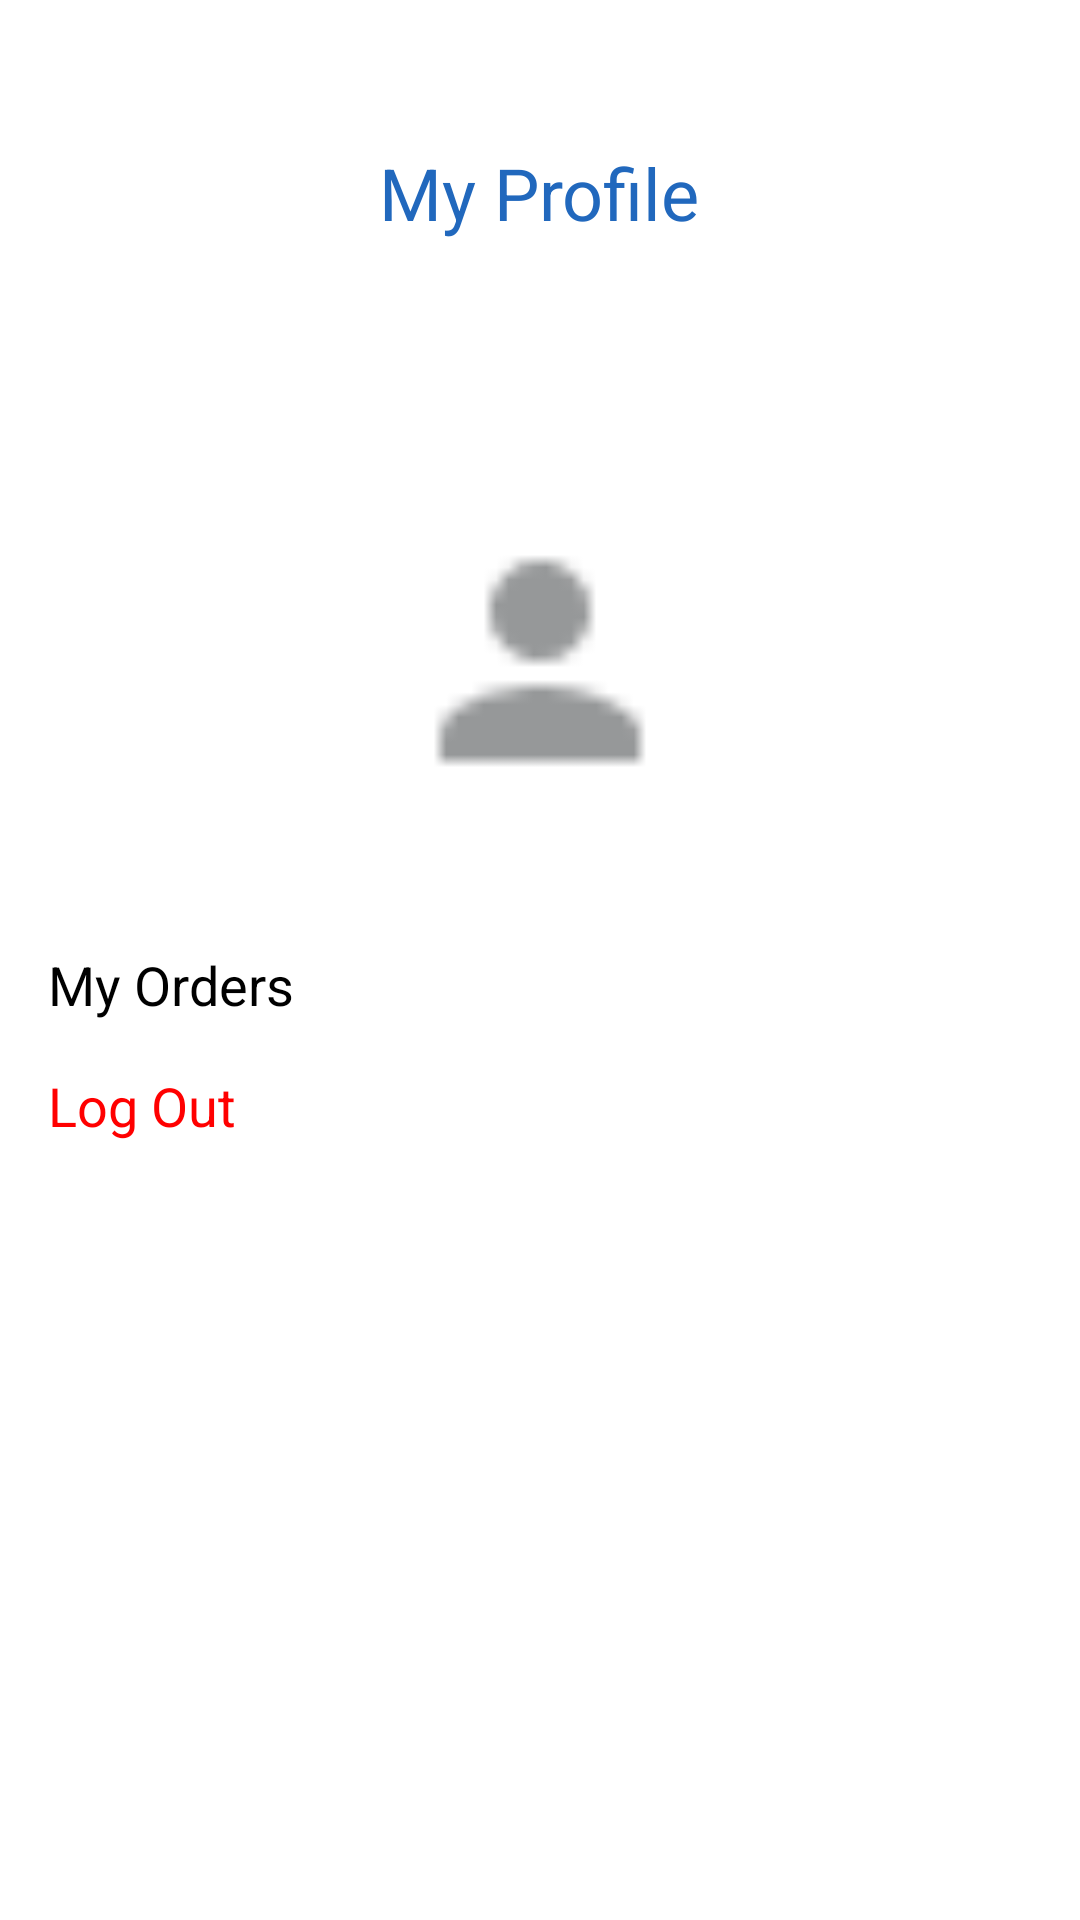

Icon bounding boxes for this 1080x1920 phone screenshot, format (x1, y1, x2, y2):
Profile Image: (437, 558, 643, 764)
